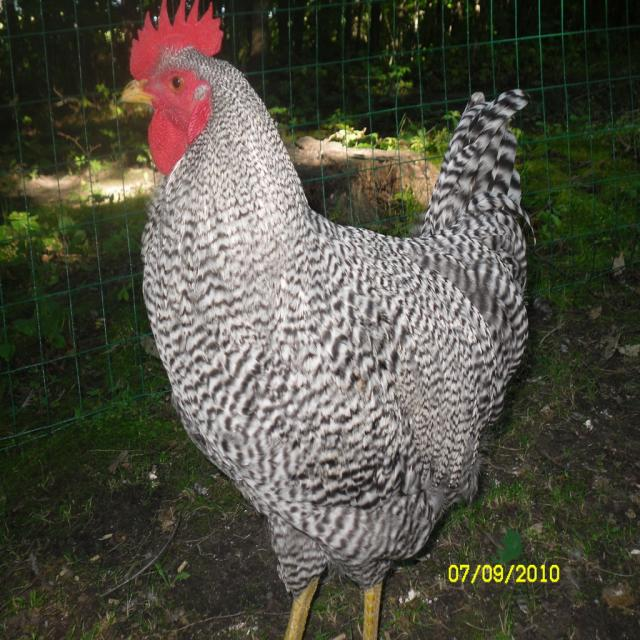Chicken: (121, 0, 536, 640)
